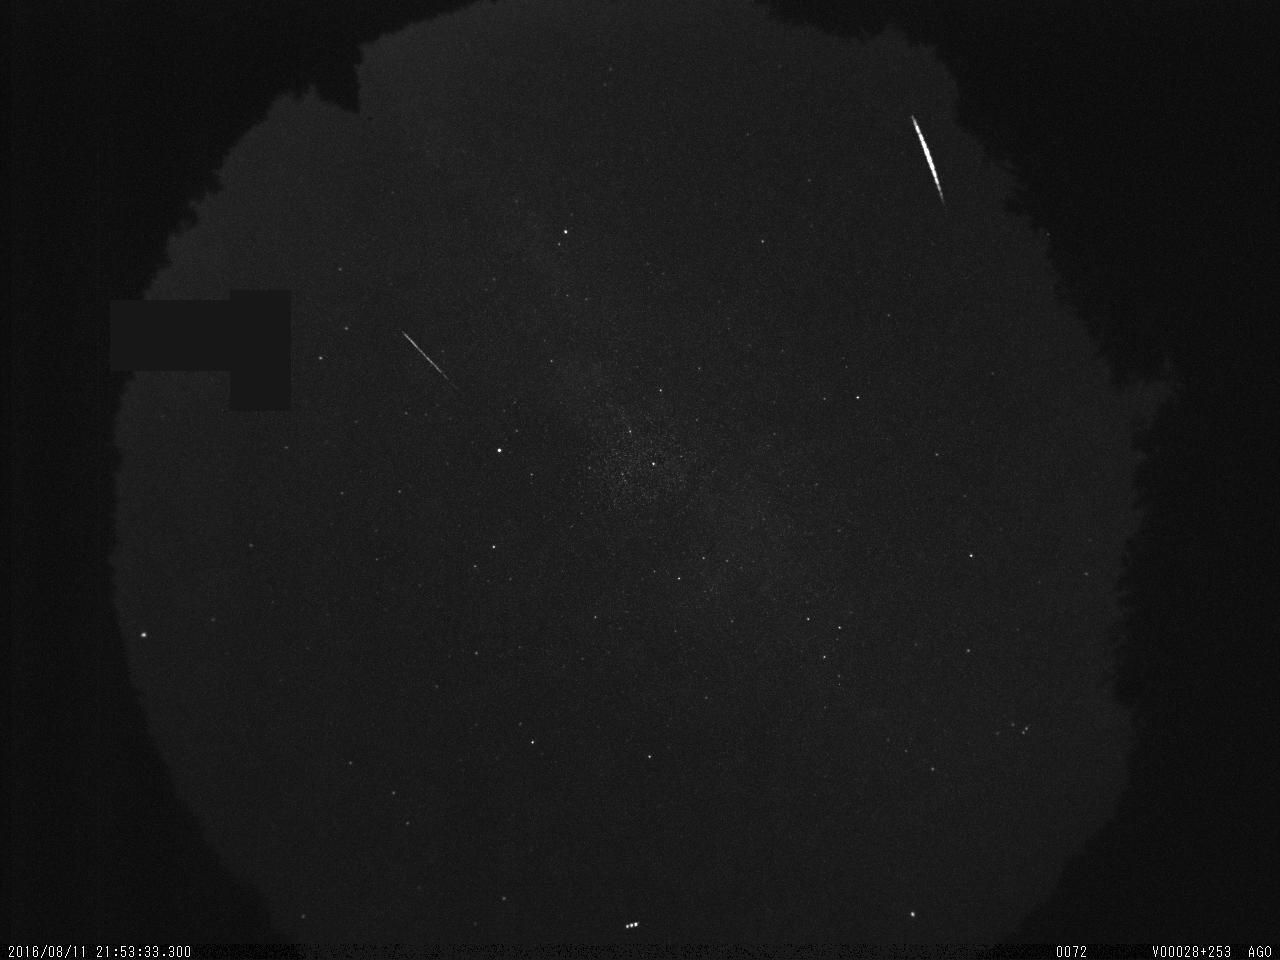meteor: (372, 298, 491, 422), (881, 88, 976, 238)
